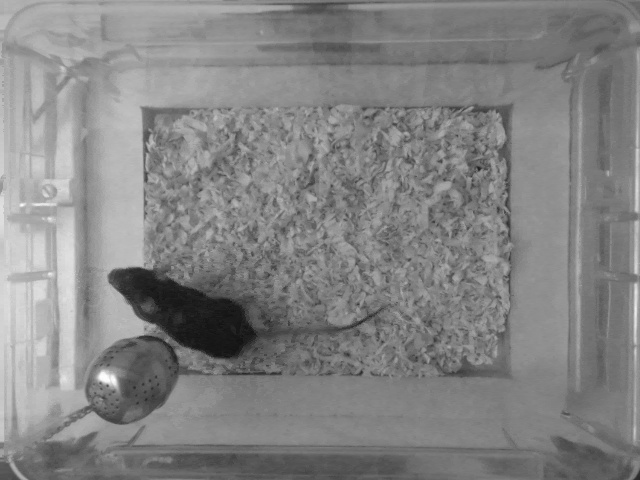mice: (103, 266, 384, 359)
